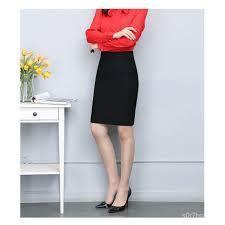shirt: (87, 7, 145, 50)
skirt: (89, 51, 138, 129)
